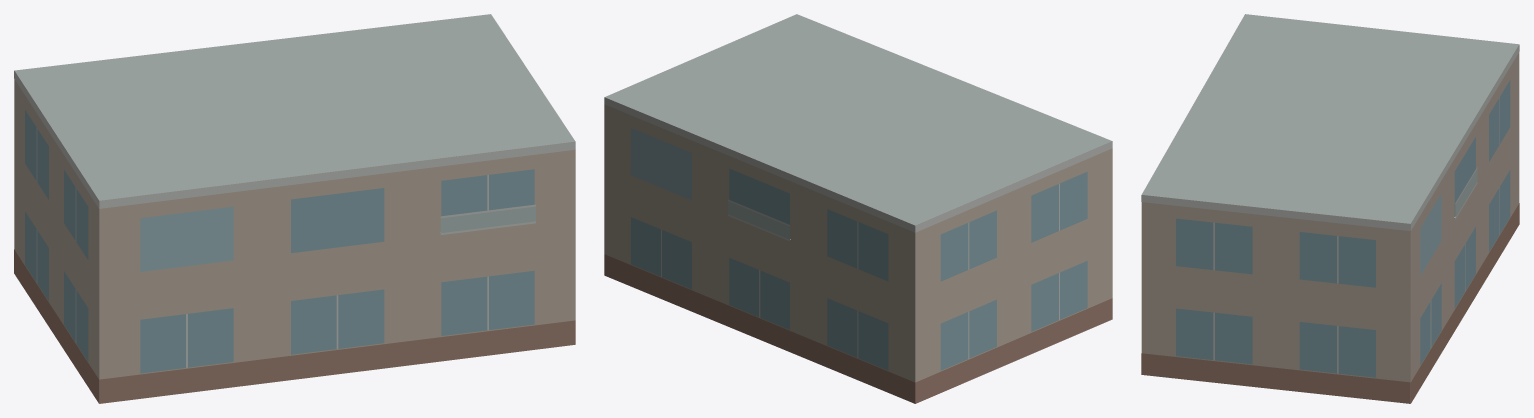
File: survey-upis-32707092.glb
3 views of the same model, side by side, from view 1: azimuth 30°, elevation 25°; view 2: azimuth 150°, elevation 25°; view 3: azimuth 270°, elevation 25° (orthographic). The views are drawn at different scales.
Visible parts, largest first — view 1: survey-upis-32707092.tmp; view 2: survey-upis-32707092.tmp; view 3: survey-upis-32707092.tmp.
Boxes of the visible parts, x1,y1,x2,y2 form: survey-upis-32707092.tmp: (14, 14, 575, 403); survey-upis-32707092.tmp: (604, 14, 1112, 403); survey-upis-32707092.tmp: (1141, 14, 1519, 403).
Size of the model in its own units: 15.27 by 6.1 by 11.62.
